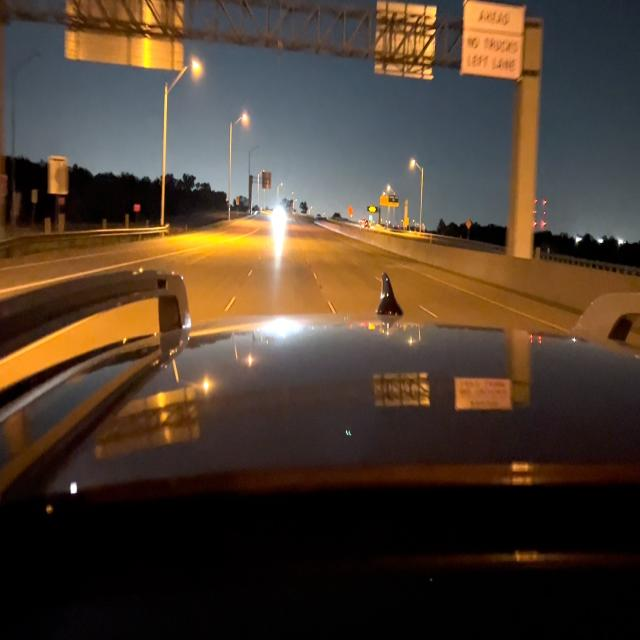back-of-sign: (64, 0, 184, 70), (375, 0, 435, 73)
